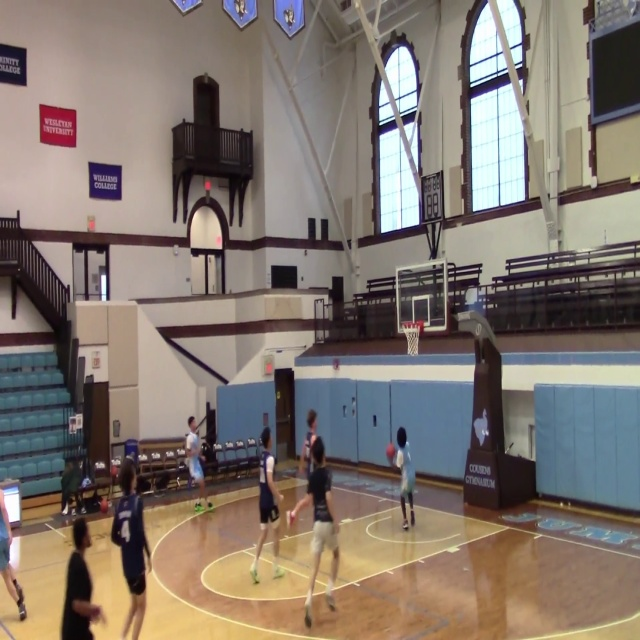Basketball: (286, 510, 295, 527), (386, 443, 395, 458)
